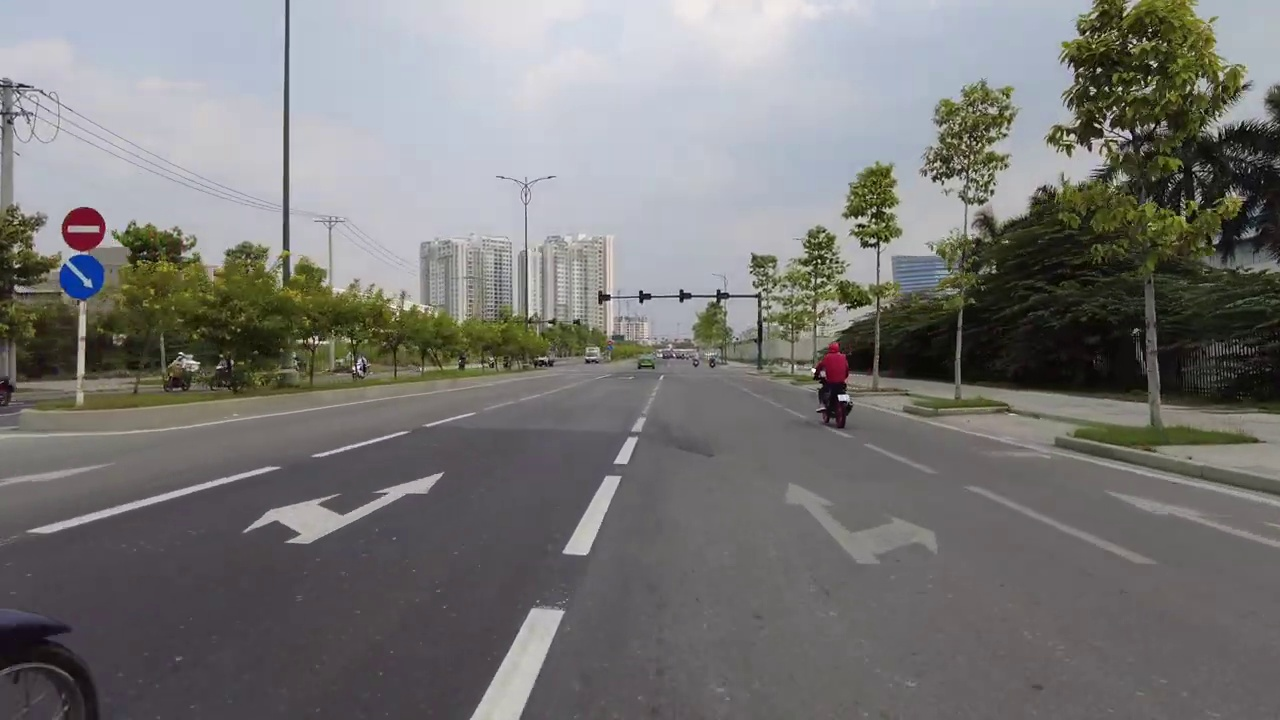cam_nguoc_chieu: (62, 207, 107, 252)
huong_phai_di_vong: (59, 254, 105, 300)
